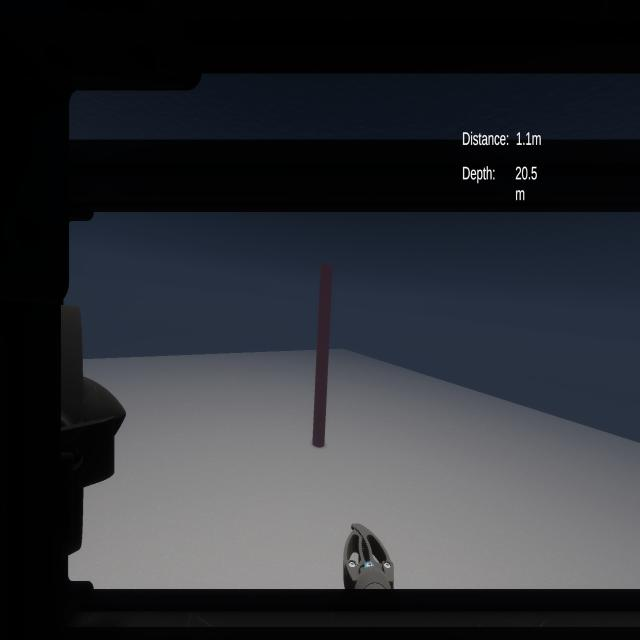Depth: (460, 157, 547, 207)
Distance: (458, 124, 546, 155)
Pole: (309, 250, 337, 464)
